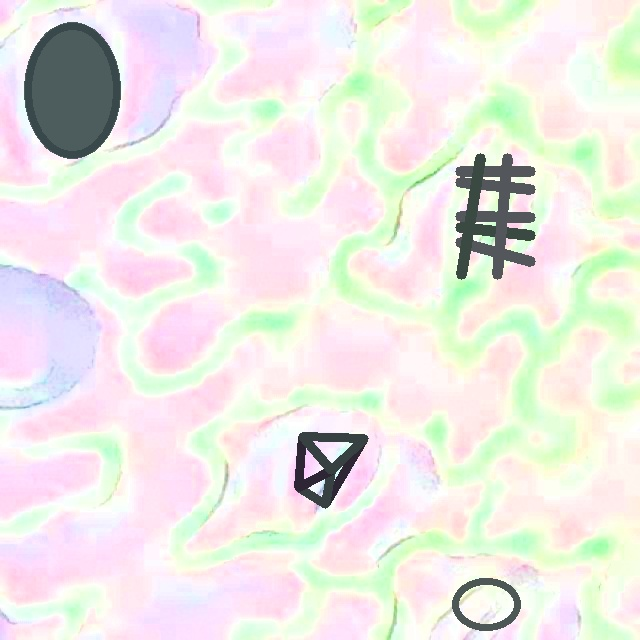open: (24, 21, 119, 158), (456, 153, 535, 278), (294, 432, 368, 508), (451, 578, 521, 629)
